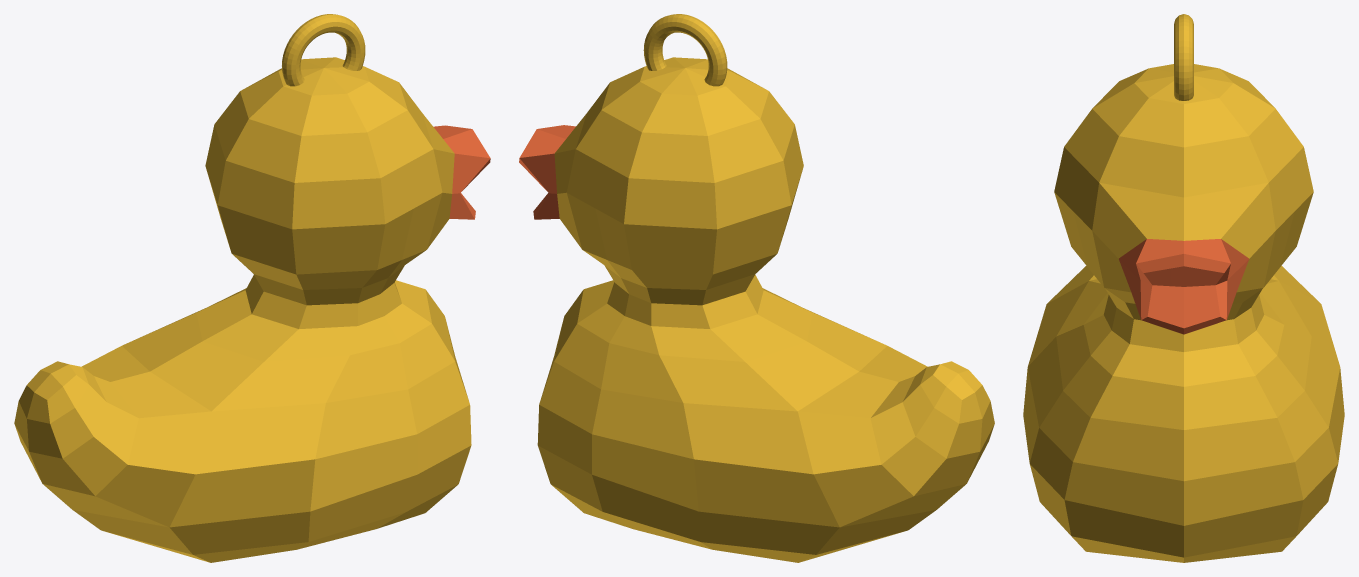
Rendered from DUCK_YELLOW (1).fbx.
The picture shows the model from 3 angles, left to right: view 1: azimuth 30°, elevation 25°; view 2: azimuth 150°, elevation 25°; view 3: azimuth 270°, elevation 25°; orthographic projection. The views are drawn at different scales.
Visible parts, largest first — view 1: Rubber_Duck; view 2: Rubber_Duck; view 3: Rubber_Duck.
Part boxes in pixels (<box>): Rubber_Duck: <box>14,14,490,562</box>; Rubber_Duck: <box>519,14,994,562</box>; Rubber_Duck: <box>1023,14,1344,562</box>.
Size of the model in its own units: 18.96 by 19.26 by 11.13.
